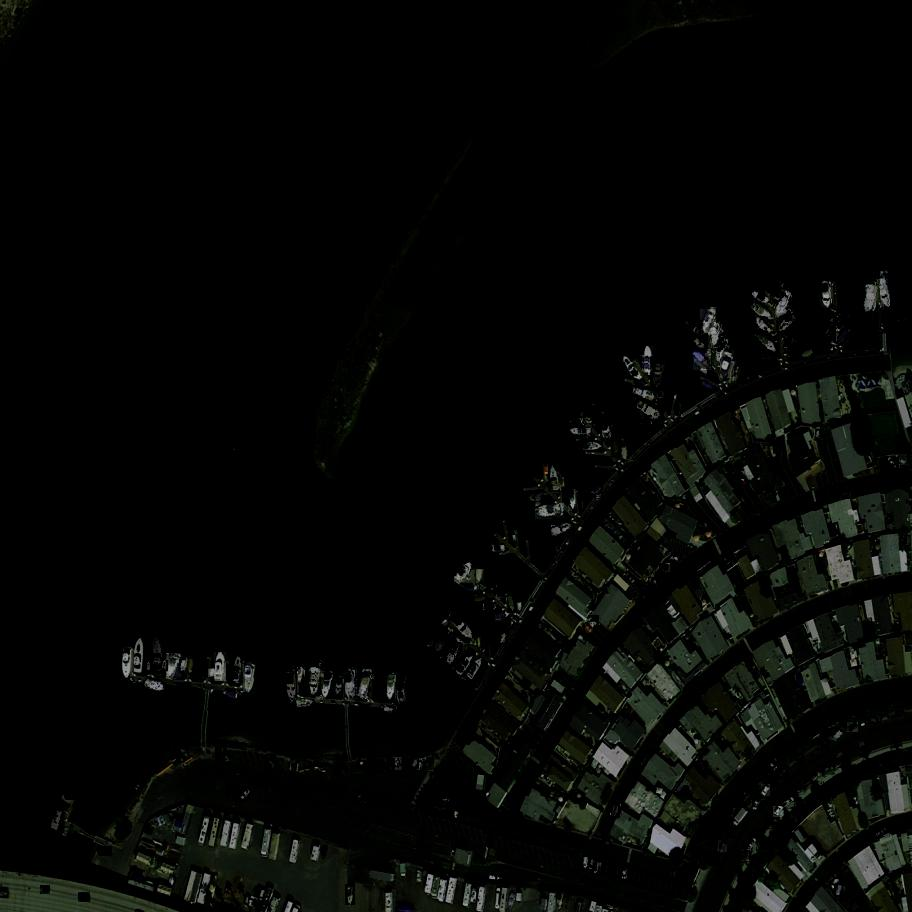large-vehicle: (733, 809, 751, 829)
ship: (446, 609, 478, 643), (875, 270, 896, 309), (635, 398, 666, 424), (755, 331, 782, 358), (863, 277, 881, 315), (150, 635, 167, 675), (623, 356, 646, 385), (815, 317, 839, 344), (650, 357, 669, 391), (432, 627, 453, 657), (343, 667, 361, 701), (357, 669, 376, 701), (455, 653, 478, 679), (455, 561, 478, 587), (393, 675, 411, 708), (754, 317, 777, 342), (309, 660, 324, 698), (285, 662, 298, 705), (446, 638, 464, 668), (750, 303, 777, 323), (775, 292, 793, 321), (535, 503, 564, 521), (700, 309, 719, 336), (776, 314, 799, 335), (243, 662, 257, 696), (631, 387, 659, 404), (466, 658, 485, 683), (134, 639, 147, 675), (693, 349, 714, 371), (167, 653, 184, 680), (51, 803, 66, 833), (143, 679, 168, 696), (720, 350, 735, 378), (122, 647, 134, 681), (552, 520, 576, 537), (531, 449, 544, 478), (215, 652, 227, 682), (685, 321, 705, 339), (600, 417, 614, 442), (689, 335, 708, 353), (321, 671, 333, 699), (335, 674, 349, 698), (820, 307, 836, 328), (549, 465, 561, 492), (835, 326, 853, 344), (578, 441, 604, 453), (386, 674, 397, 701), (772, 282, 786, 303), (823, 279, 833, 308), (834, 309, 852, 325), (710, 323, 721, 349), (716, 337, 726, 365), (752, 292, 772, 306), (592, 406, 604, 429), (644, 346, 653, 373), (788, 343, 803, 359), (345, 884, 355, 906), (234, 655, 242, 682), (175, 683, 193, 695), (700, 365, 716, 378), (500, 617, 516, 630), (222, 689, 239, 701), (179, 657, 191, 674), (296, 700, 316, 710), (507, 595, 518, 613), (486, 576, 497, 594), (612, 439, 623, 457), (528, 494, 549, 503), (801, 349, 816, 361), (748, 366, 763, 378), (495, 611, 511, 622), (570, 429, 592, 437), (783, 338, 796, 351), (382, 706, 397, 717), (188, 658, 197, 676), (483, 603, 499, 613), (590, 486, 603, 498), (569, 489, 576, 511), (497, 583, 506, 600), (673, 401, 682, 418), (621, 446, 631, 461), (64, 791, 80, 800), (226, 664, 235, 680), (199, 663, 209, 677), (476, 569, 484, 584), (491, 545, 506, 553), (482, 637, 490, 652), (762, 354, 776, 362), (359, 704, 371, 713), (464, 586, 479, 593), (640, 418, 653, 426), (500, 633, 508, 645), (557, 893, 563, 906), (583, 406, 588, 421), (475, 597, 487, 603), (208, 668, 215, 678), (163, 661, 169, 672), (299, 668, 303, 684), (571, 418, 583, 423), (145, 663, 150, 672)
small-vehicle: (226, 783, 242, 799), (831, 728, 846, 744), (370, 759, 386, 774), (588, 615, 603, 630), (239, 787, 253, 803), (782, 796, 798, 810), (754, 827, 768, 842), (881, 456, 895, 471), (265, 754, 277, 771), (810, 771, 824, 785), (709, 851, 722, 866), (737, 472, 750, 487), (835, 883, 845, 902), (422, 757, 435, 771), (411, 756, 423, 771), (368, 791, 380, 806), (611, 800, 621, 818), (753, 795, 764, 811), (340, 762, 353, 775), (777, 766, 789, 780), (845, 705, 859, 717), (894, 454, 908, 466), (355, 789, 366, 804), (847, 722, 860, 734), (817, 739, 830, 751), (888, 457, 900, 470), (722, 553, 733, 567), (773, 490, 784, 504), (648, 577, 662, 588), (334, 761, 344, 776), (587, 857, 597, 872), (401, 757, 411, 772), (876, 828, 891, 838), (794, 754, 806, 766), (486, 832, 495, 848), (768, 776, 779, 789), (725, 827, 736, 840), (718, 840, 729, 853), (822, 766, 836, 776), (77, 892, 91, 902), (829, 879, 839, 893), (223, 750, 232, 765), (387, 758, 396, 773), (773, 807, 784, 819), (764, 817, 775, 829), (357, 761, 369, 772), (748, 838, 758, 851), (39, 885, 52, 895), (659, 564, 672, 574), (773, 440, 782, 454), (585, 622, 596, 633), (443, 797, 451, 812), (393, 758, 402, 771), (488, 874, 501, 883), (215, 747, 223, 761), (622, 867, 630, 881), (815, 427, 823, 441), (761, 785, 771, 796), (779, 488, 788, 500), (98, 847, 111, 855), (367, 760, 375, 773), (248, 897, 257, 908), (742, 849, 750, 861), (794, 788, 806, 796), (842, 491, 854, 499), (834, 761, 845, 769), (611, 862, 617, 876), (419, 758, 425, 772), (595, 860, 601, 873), (655, 572, 666, 579), (671, 555, 683, 561), (417, 870, 422, 884), (352, 789, 356, 803), (869, 718, 880, 723), (583, 858, 588, 868), (665, 560, 675, 565)
